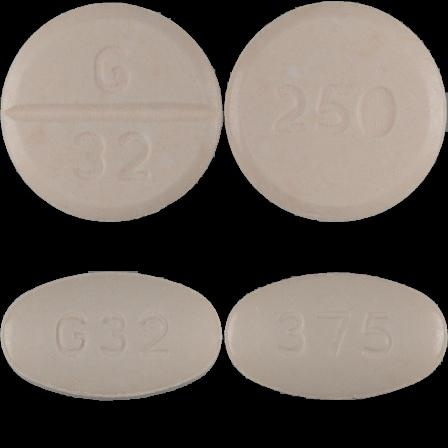66267-151: (0, 0, 224, 224)
